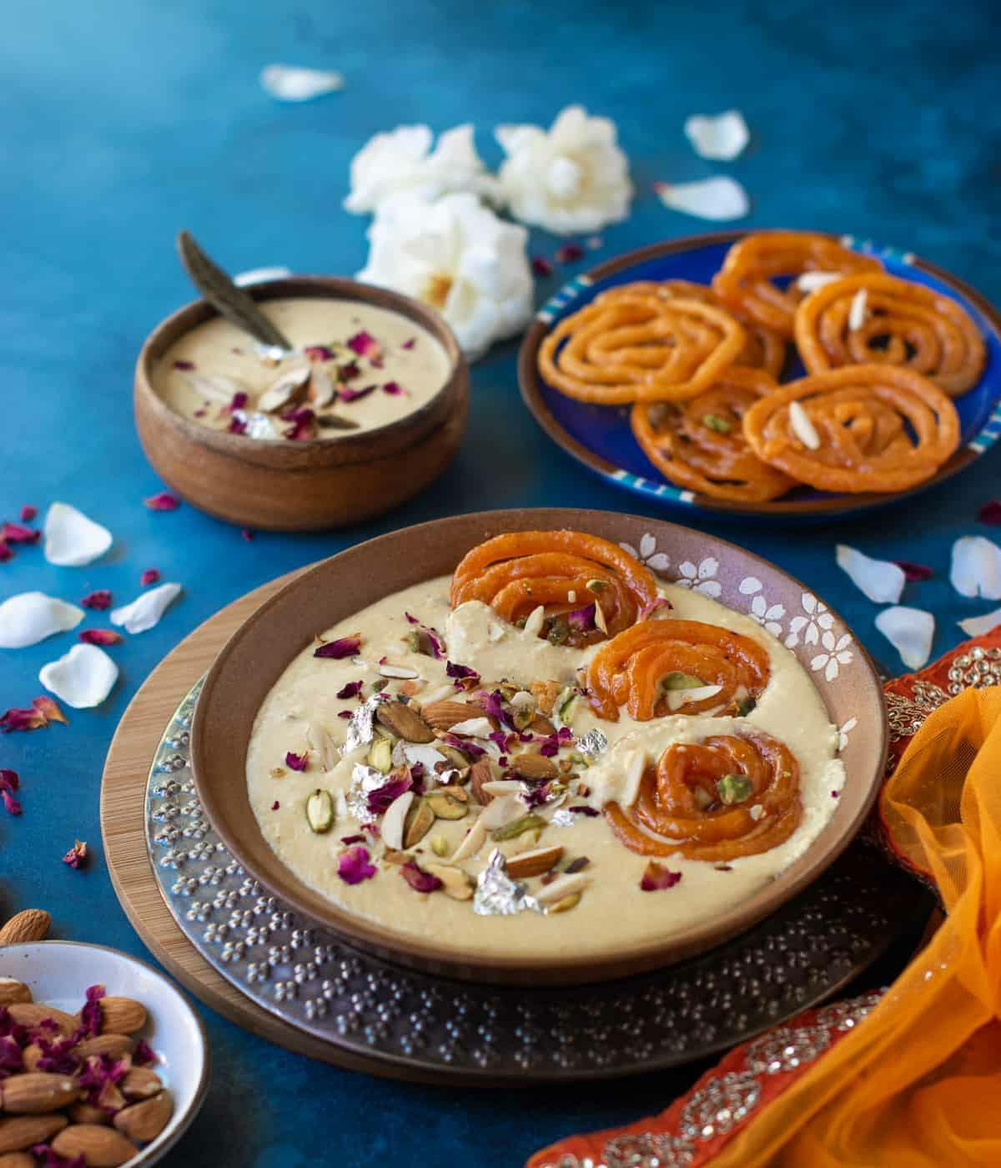Jalebi: (538, 234, 987, 502), (449, 528, 806, 861)
